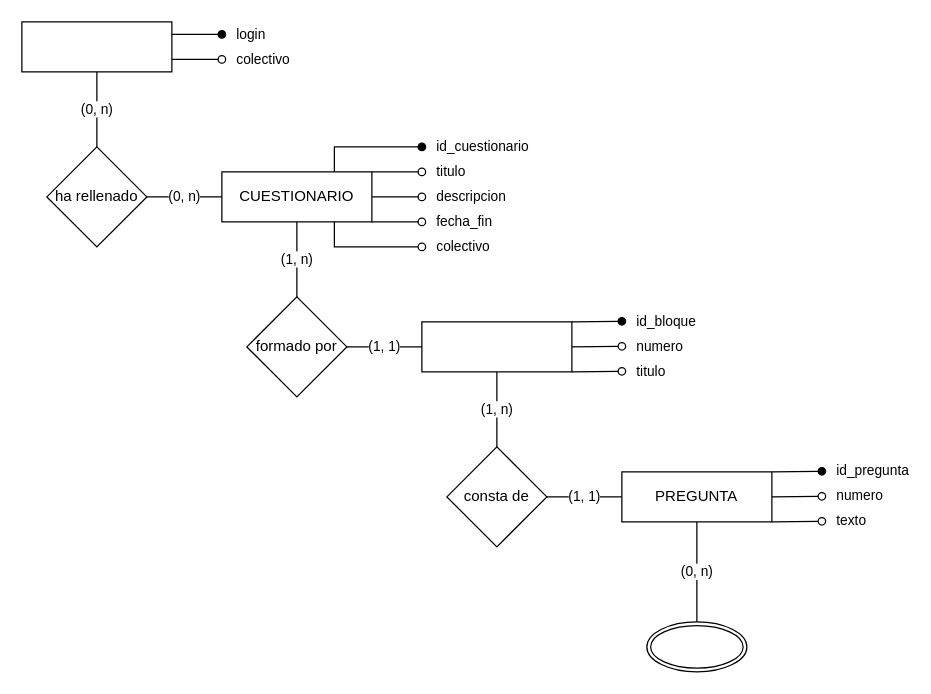
Image size: 931x694. Some labels were removed from this diagram. The shapes that lost their labels are listed below. From the top down, each one's centre as x and y in pixels, then its label:
At point 96,46: "USUARIO".
At point 496,346: "BLOQUE".
At point 696,646: "respuesta".
